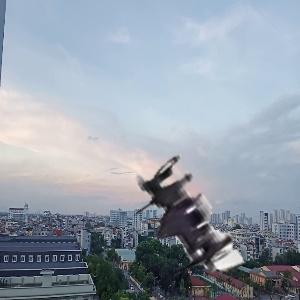drone: (103, 131, 272, 300)
